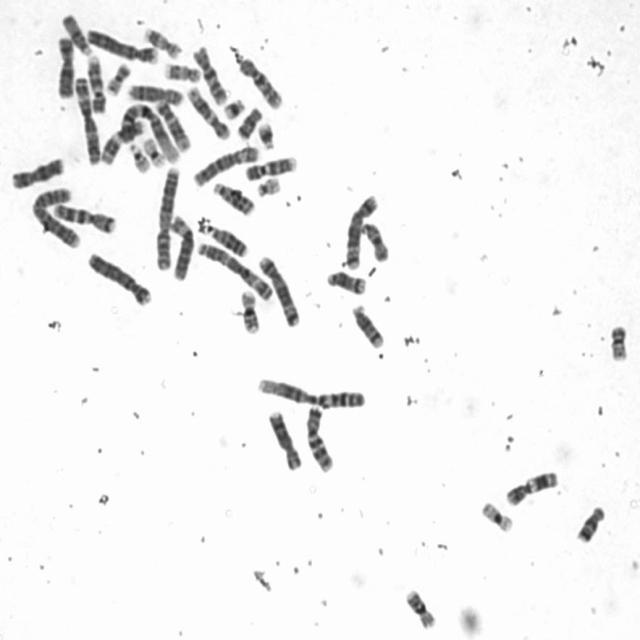A1: (253, 374, 368, 411), (119, 101, 182, 168)
A2: (29, 183, 82, 250), (152, 162, 182, 272)
A3: (194, 238, 275, 302), (71, 73, 101, 166)
B4: (84, 248, 153, 307), (83, 24, 160, 65)
B5: (255, 251, 302, 329), (342, 190, 379, 271)
C10: (236, 54, 285, 111), (190, 42, 230, 108)
C11: (98, 116, 147, 166), (502, 466, 560, 506)
C12: (183, 83, 232, 142), (153, 96, 193, 155)
C6: (190, 142, 261, 188), (168, 211, 195, 283)
C7: (51, 199, 117, 236), (303, 402, 335, 473)
C8: (265, 407, 303, 472), (125, 80, 185, 106)
C9: (241, 152, 298, 183), (84, 51, 107, 115)
D13: (196, 220, 250, 260), (209, 178, 257, 218)
D14: (349, 301, 385, 350), (323, 267, 368, 296)
D15: (60, 11, 94, 57), (358, 220, 390, 264)
E16: (402, 586, 437, 630), (238, 287, 262, 335)
E17: (141, 24, 183, 60), (161, 60, 202, 83)
E18: (572, 502, 608, 545), (234, 104, 264, 142)
F19: (479, 498, 514, 534), (140, 135, 166, 168)
F20: (605, 322, 631, 364), (104, 60, 132, 98)
G21: (254, 120, 277, 150), (221, 95, 247, 121)
G22: (126, 140, 152, 174), (254, 174, 282, 198)
X: (9, 154, 66, 190), (54, 34, 76, 100)
